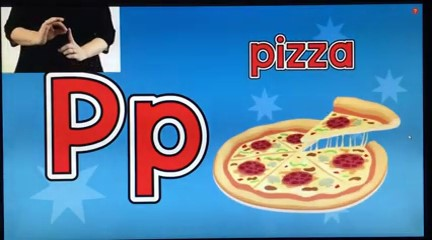P: (34, 12, 90, 66)
